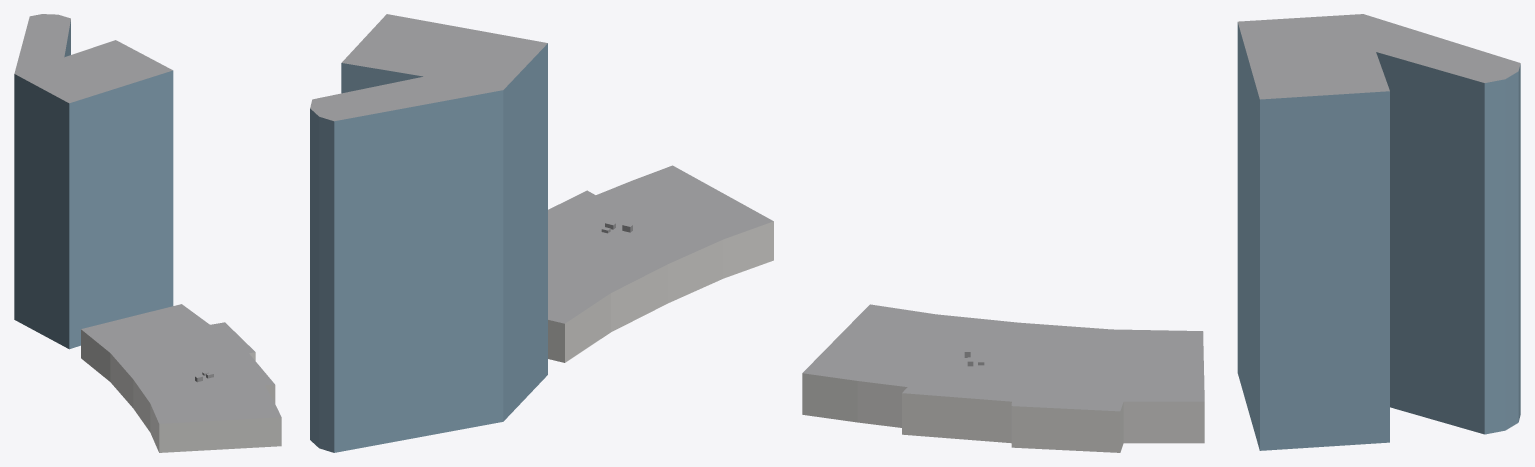
Rendered from building_4_4.glb.
The picture shows the model from 3 angles, left to right: view 1: azimuth 30°, elevation 25°; view 2: azimuth 150°, elevation 25°; view 3: azimuth 270°, elevation 25°; orthographic projection. The views are drawn at different scales.
Visible parts, largest first — view 1: glass_blue, roof, concrete_light; view 2: glass_blue, roof, concrete_light; view 3: glass_blue, roof, concrete_light.
Part boxes in pixels (x1,y1,x2,y2): glass_blue: [14, 20, 173, 349]; roof: [14, 14, 281, 423]; concrete_light: [81, 329, 281, 452]; glass_blue: [310, 43, 547, 452]; roof: [310, 14, 773, 323]; concrete_light: [548, 221, 773, 362]; glass_blue: [1237, 22, 1520, 450]; roof: [802, 14, 1520, 411]; concrete_light: [802, 373, 1204, 452].
Bounding box in the file's own units: 64.8 × 99.2 × 184.
